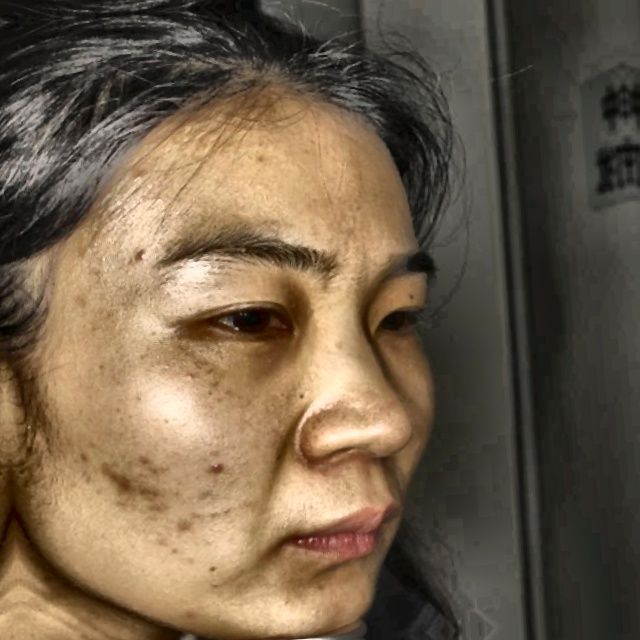comedone: (93, 456, 138, 497), (206, 453, 234, 489), (129, 241, 153, 267)
